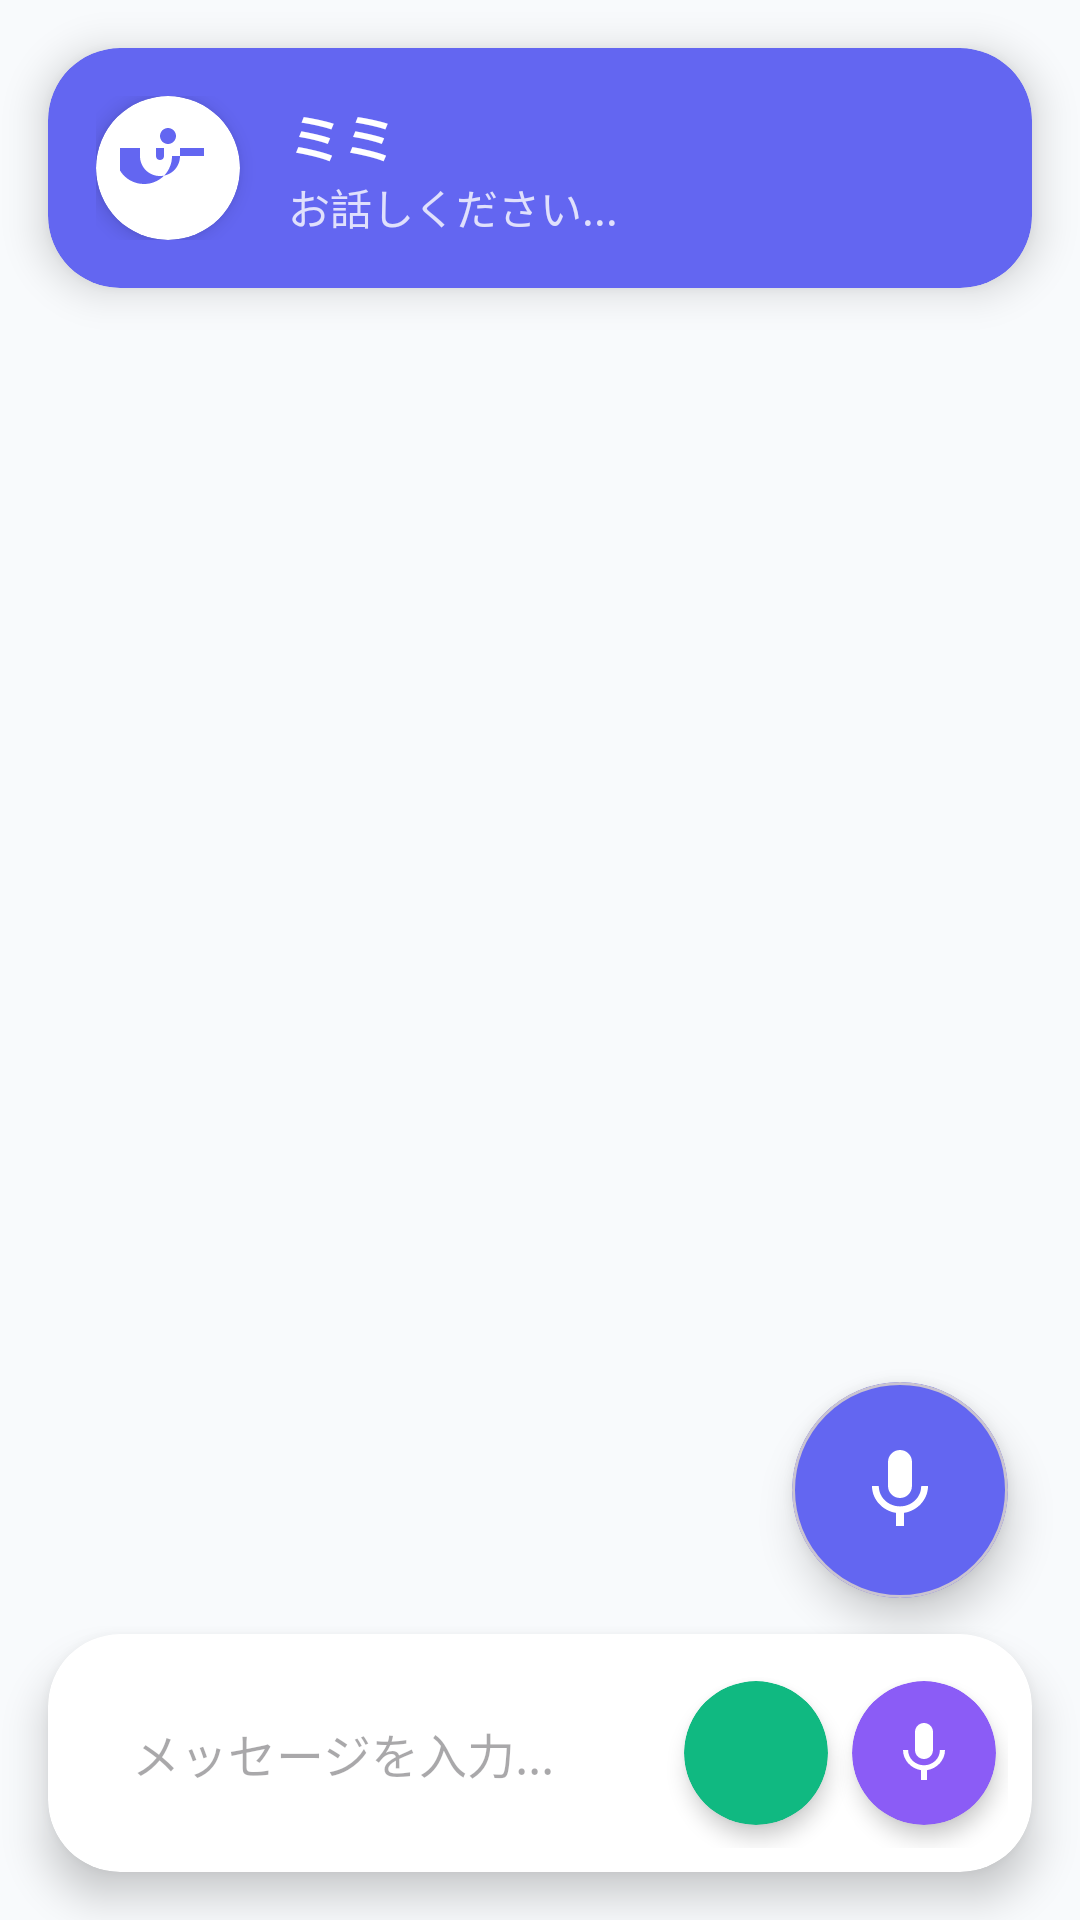

Locate icon controls on the screen. Image size 1080×1920, boxes as (x1, y1, x2, y2).
voice: (903, 1723, 945, 1780)
メインマイク（長押しで話す）: (872, 1450, 928, 1526)
